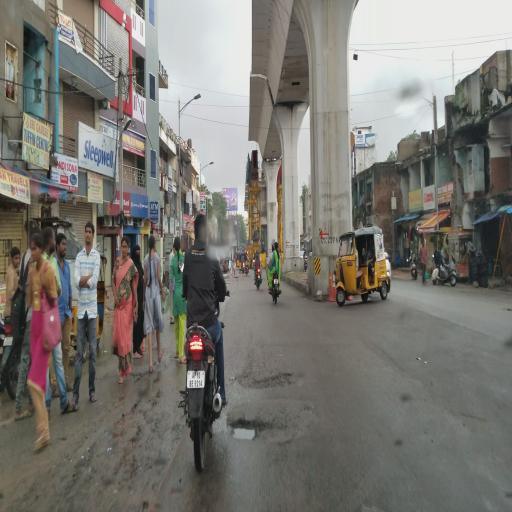street_light_0: (176, 92, 204, 120), (200, 150, 218, 170)
